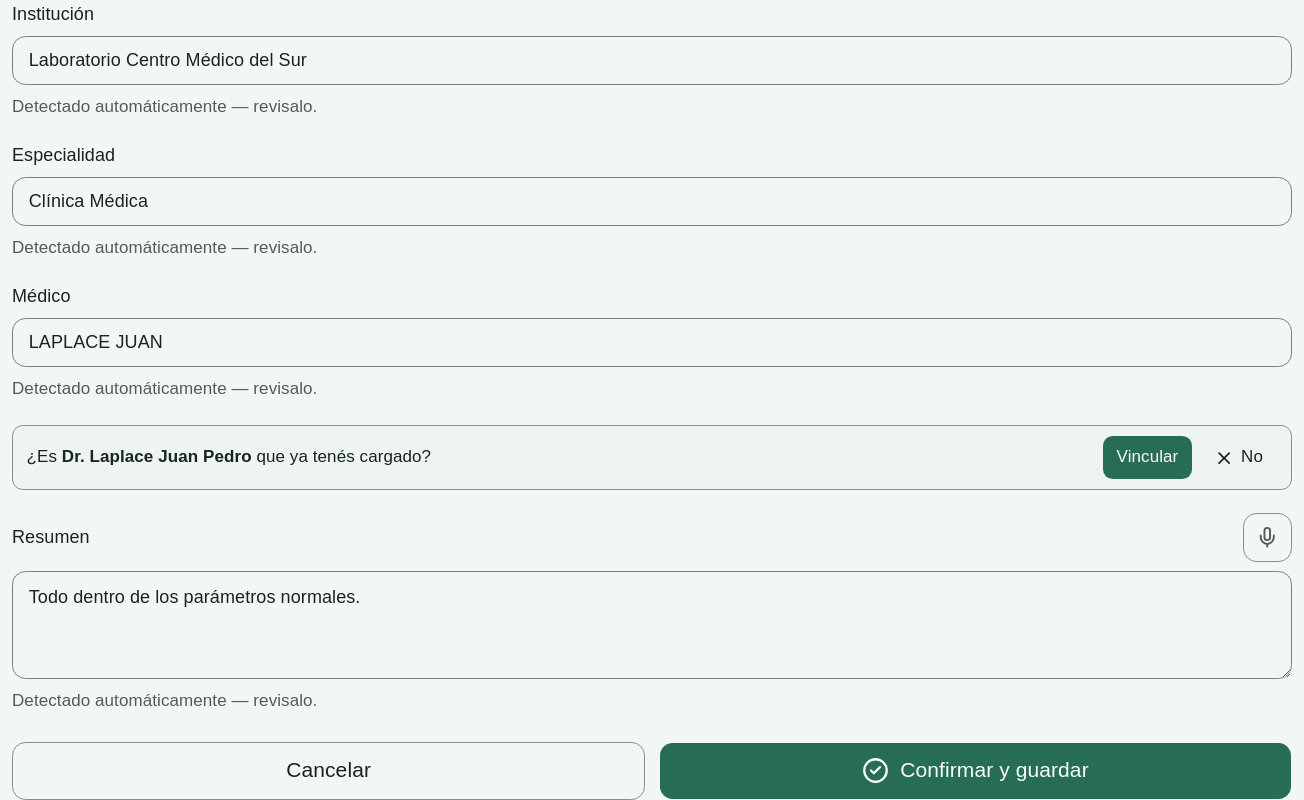
Test case: FormularioRevision — «Vincular» tiene que hacer algo visible › con un nombre extraído DISTINTO (el caso que ya andaba), además normaliza el texto del campo
(page scrolled)
Click the button "Vincular": (1148, 458) x1=1102 y1=435 x2=1193 y2=480
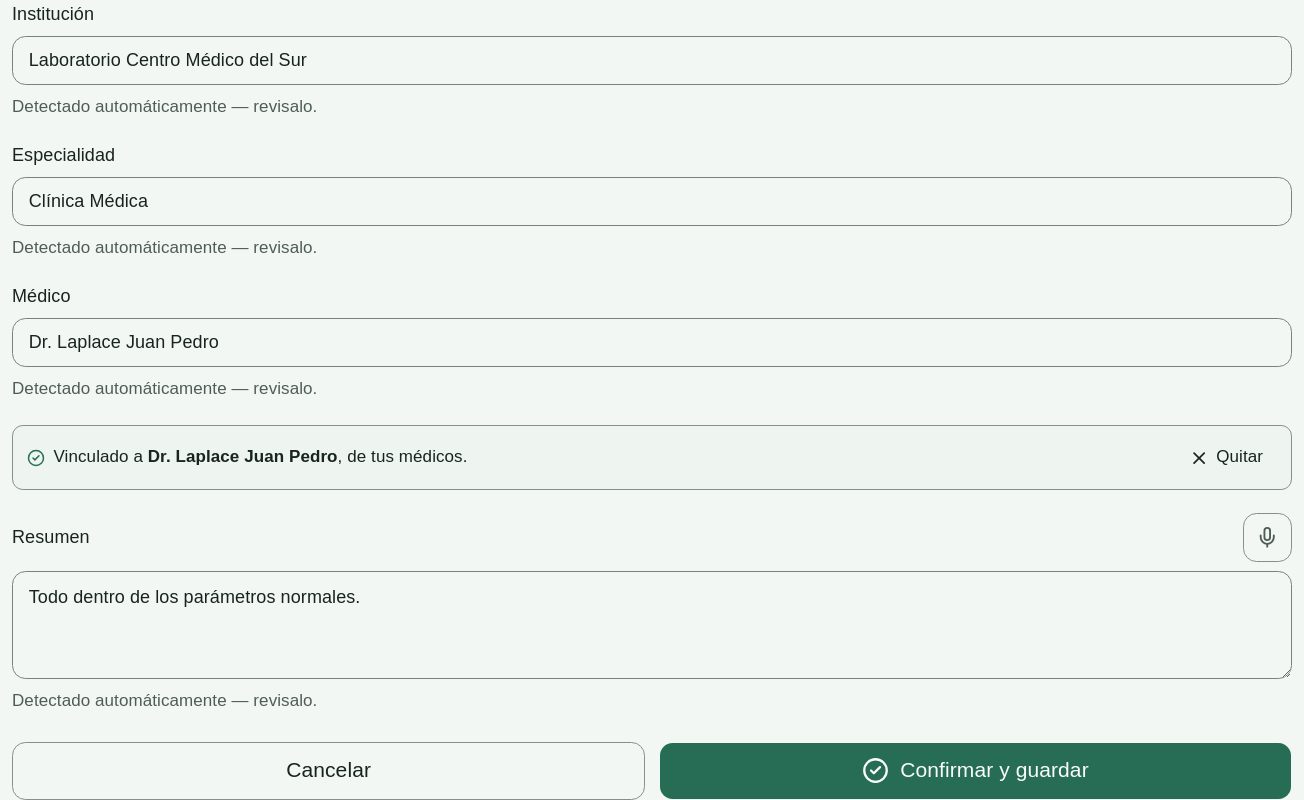
Check: the text "Vinculado a Dr. Laplace Juan Pedro, de tus médicos." is shown, box x1=54 y1=444 x2=468 y2=471
Check: the field labelled "Médico" holds "Dr. Laplace Juan Pedro", box x1=12 y1=318 x2=1292 y2=367
